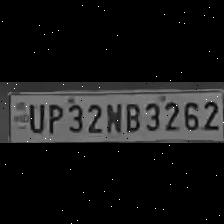2: (200, 96, 220, 130), (84, 100, 104, 132), (161, 97, 179, 130)
3: (142, 97, 160, 130), (65, 100, 83, 132)
6: (179, 98, 199, 130)
B: (122, 98, 140, 132)
N: (104, 99, 122, 133)
P: (46, 100, 62, 132)
U: (24, 100, 43, 132)
